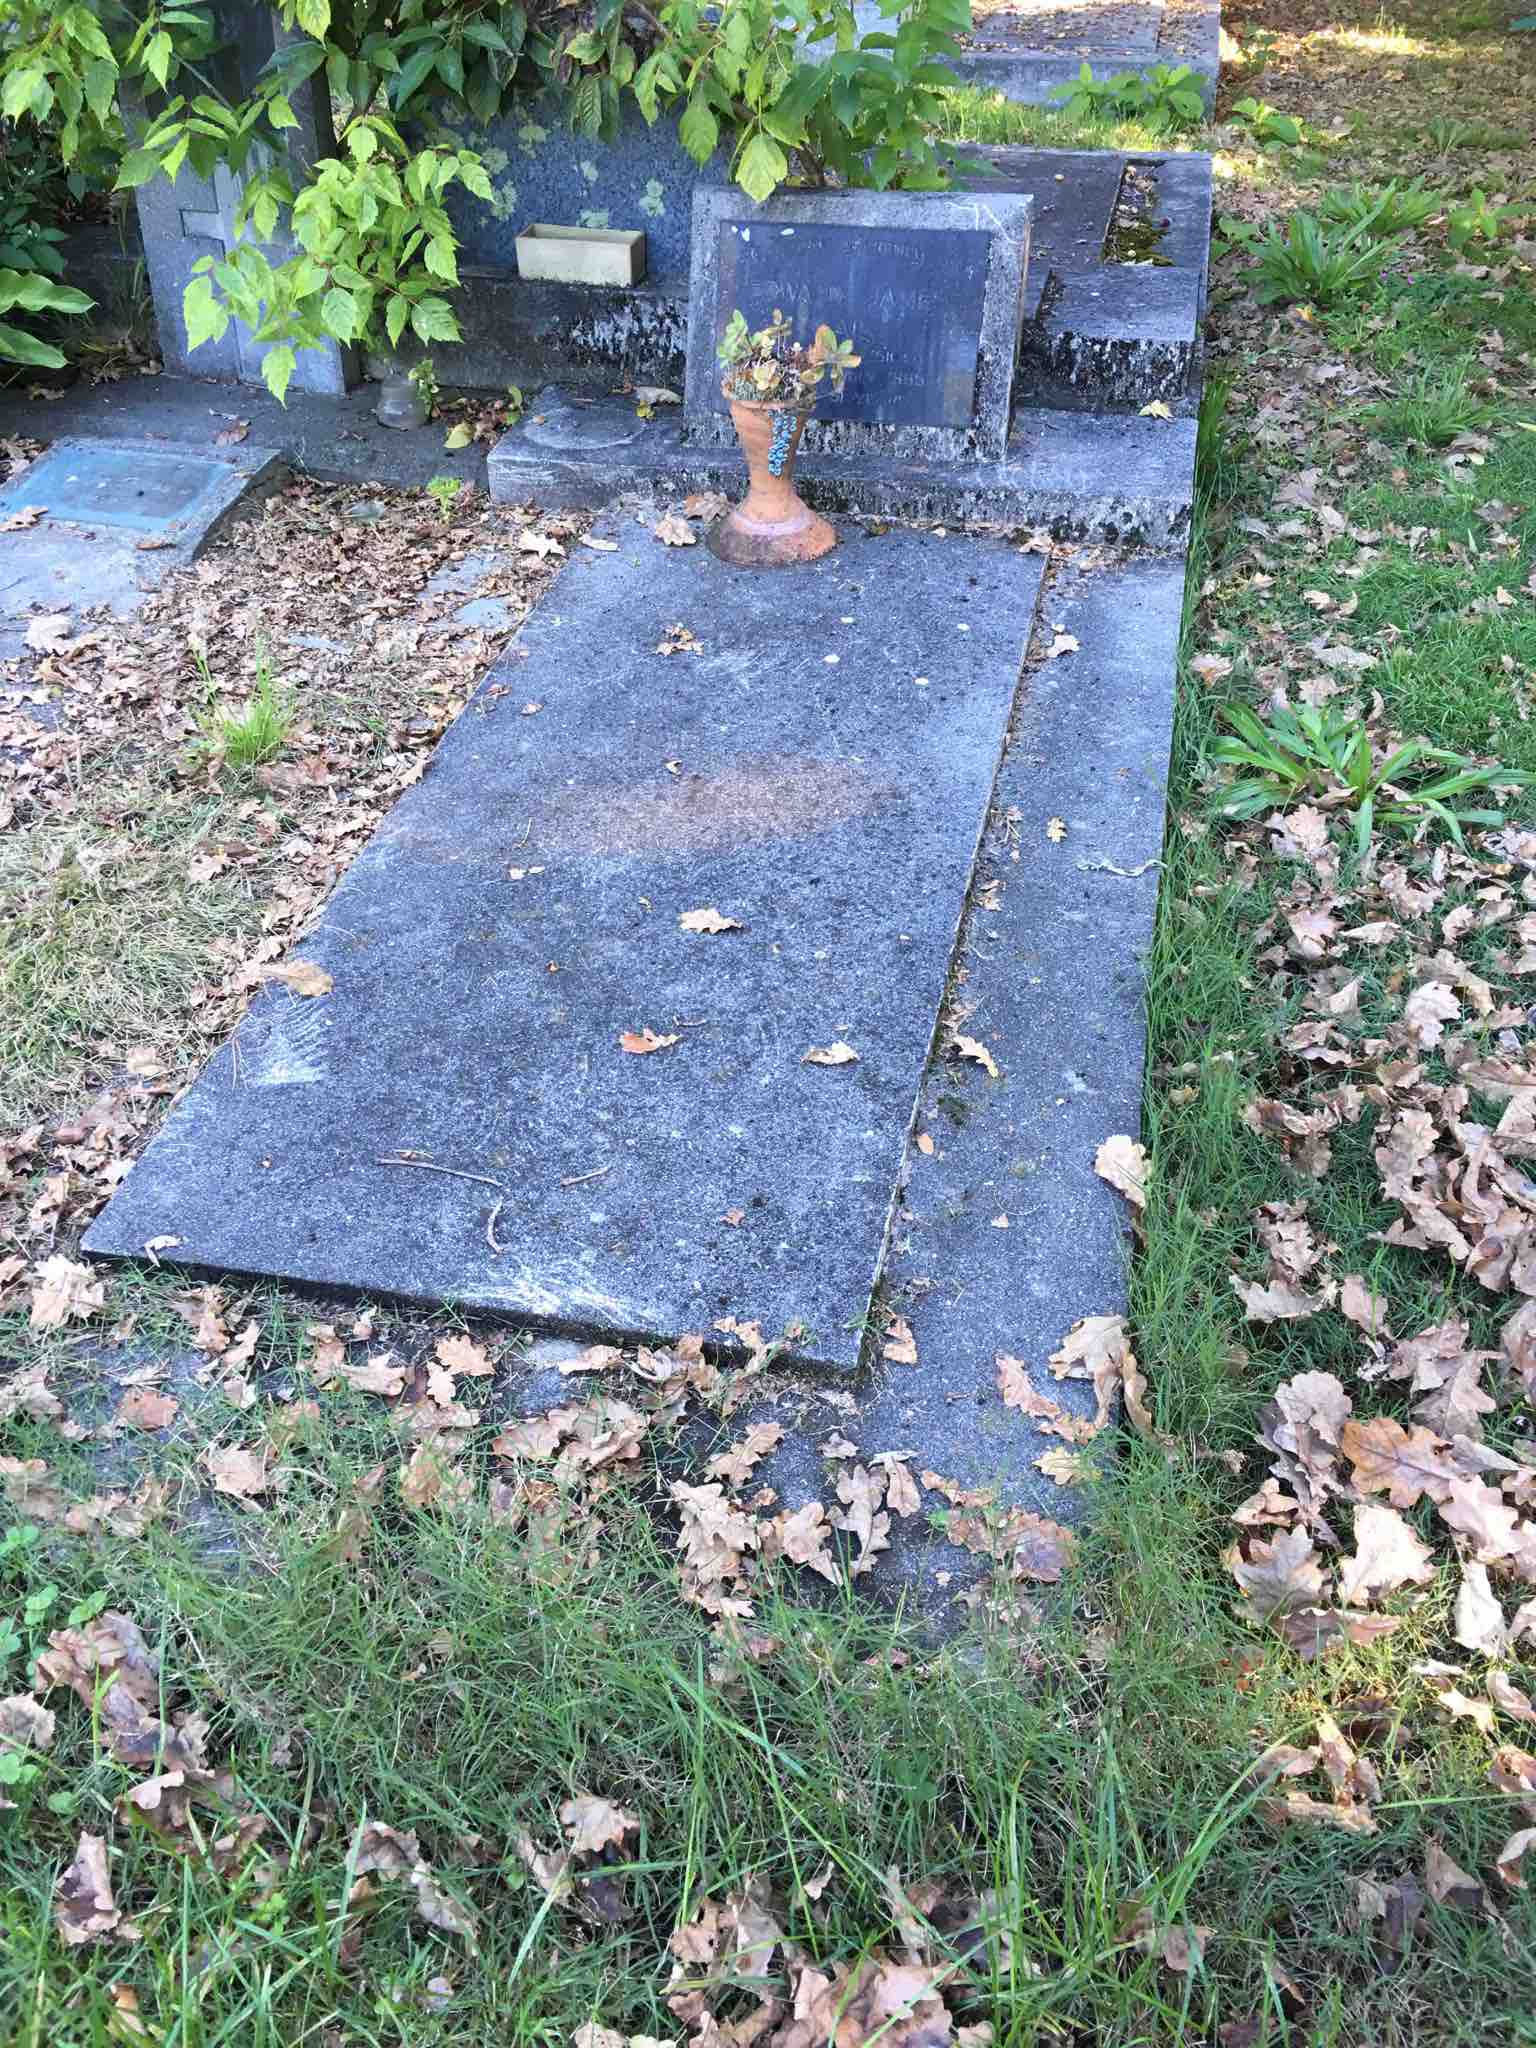vault: (86, 103, 1234, 1705)
